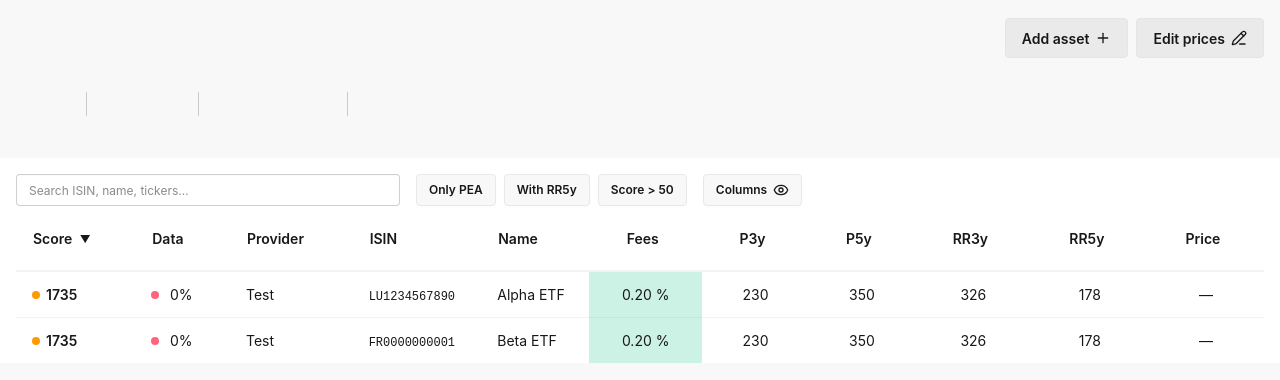
AssetTable - filter › filter matches by ISIN
Type "LU1234" into the search field with placeholder "Search ISIN, name, tickers…" at [208, 190], box [16,174,400,206]
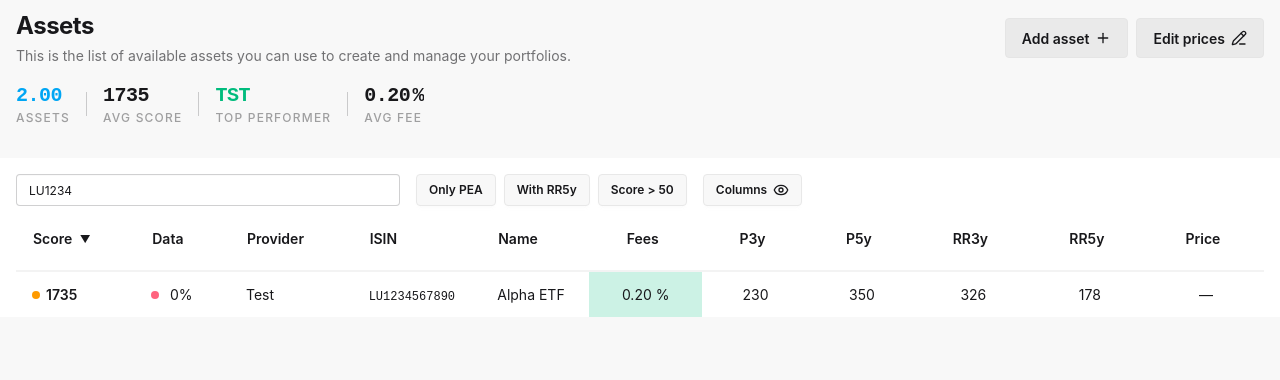
Result: the row with test id "asset-row-FR0000000001" is gone
